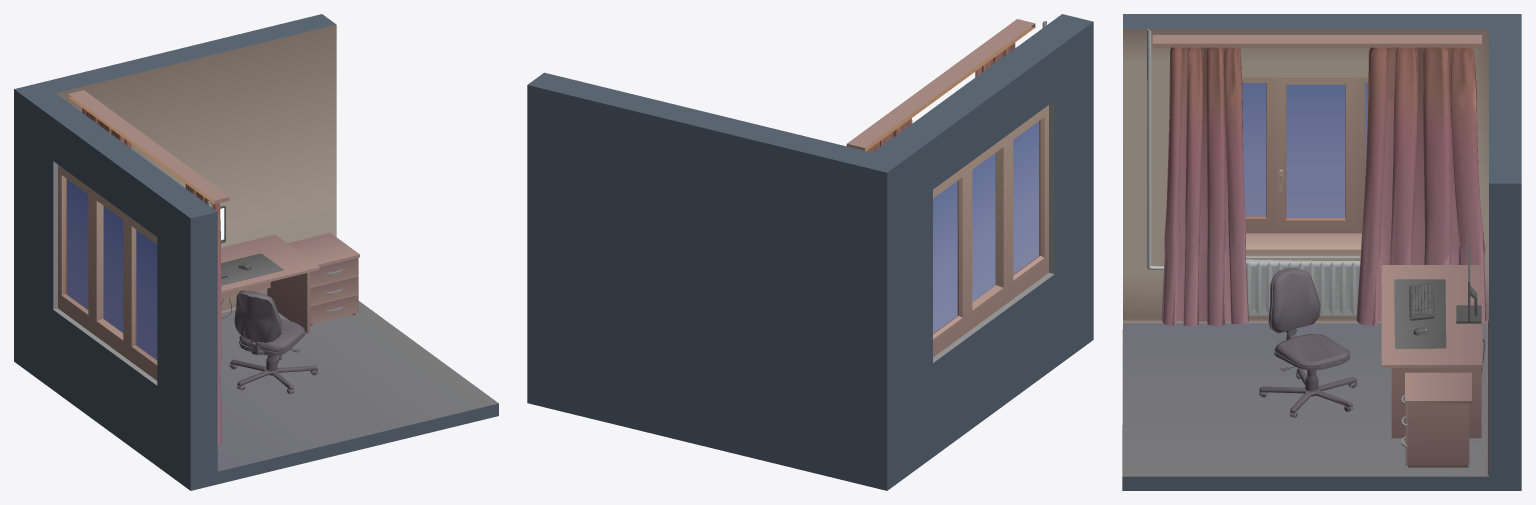
File: room.glb
3 renders of one model, left to right at view 1: azimuth 30°, elevation 25°; view 2: azimuth 150°, elevation 25°; view 3: azimuth 270°, elevation 25°, orthographic. The views are drawn at different scales.
Parts seen in each view (by area): view 1: body1, window4, window, table, cabin, chair_body, railing, _________6_blinn1_0, kovrik, pillows; view 2: body1, window4, window, railing; view 3: body1, _________6_blinn1_0, window4, window, table, cabin, radiator, pillows, railing, kovrik, chair_body, radiator_blinn1_0.001 (+2 smaller).
Boxes of the visible parts, x1=… form: body1: x1=14, y1=14, x2=498, y2=490; window4: x1=66, y1=179, x2=157, y2=359; window: x1=58, y1=165, x2=157, y2=380; table: x1=221, y1=234, x2=319, y2=333; cabin: x1=287, y1=233, x2=359, y2=325; chair_body: x1=229, y1=292, x2=318, y2=393; railing: x1=68, y1=90, x2=229, y2=204; _________6_blinn1_0: x1=82, y1=108, x2=222, y2=444; kovrik: x1=221, y1=253, x2=283, y2=285; pillows: x1=239, y1=290, x2=304, y2=351; body1: x1=527, y1=14, x2=1093, y2=490; window4: x1=933, y1=121, x2=1039, y2=333; window: x1=933, y1=105, x2=1048, y2=357; railing: x1=846, y1=19, x2=1035, y2=151; body1: x1=1122, y1=14, x2=1521, y2=490; _________6_blinn1_0: x1=1161, y1=47, x2=1486, y2=326; window4: x1=1242, y1=82, x2=1368, y2=217; window: x1=1242, y1=77, x2=1368, y2=253; table: x1=1381, y1=265, x2=1482, y2=438; cabin: x1=1405, y1=372, x2=1471, y2=467; radiator: x1=1246, y1=256, x2=1360, y2=315; pillows: x1=1271, y1=269, x2=1349, y2=367; railing: x1=1152, y1=35, x2=1481, y2=47; kovrik: x1=1394, y1=279, x2=1446, y2=348; chair_body: x1=1259, y1=267, x2=1357, y2=417; radiator_blinn1_0.001: x1=1147, y1=28, x2=1163, y2=270.
Size of the model in its own units: 6.68 by 5.66 by 6.65.
